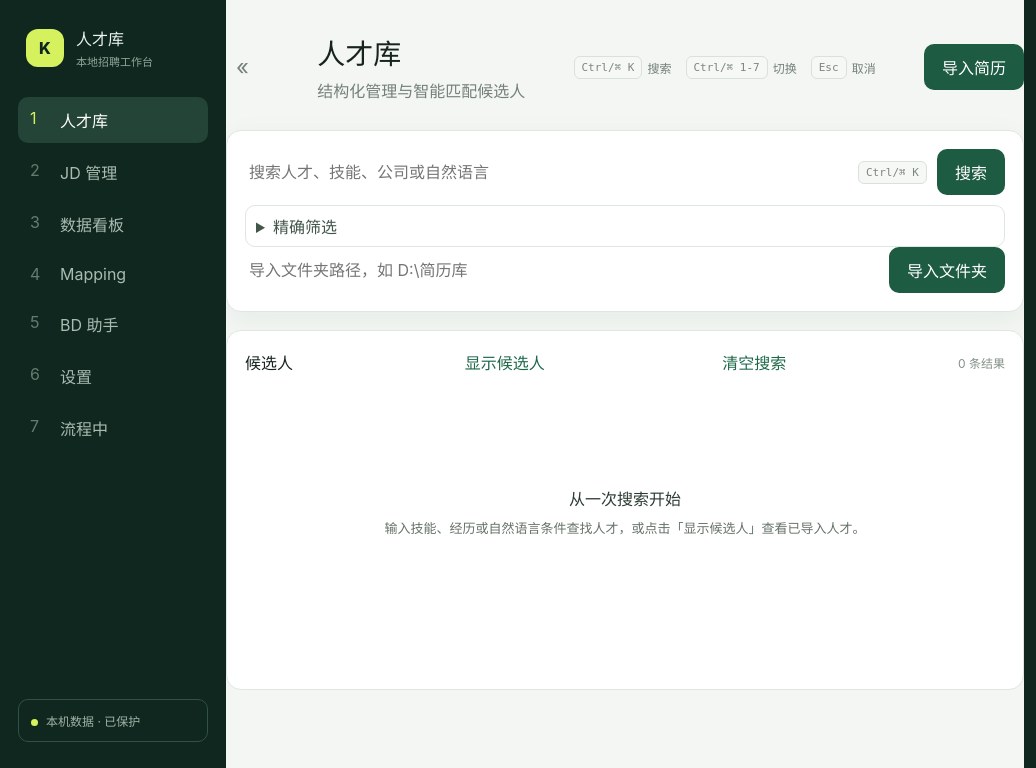
Test: desktop recruitment workflow › creates a company in the mapping tab
Click the button "4 Mapping".
click(113, 274)  # box [18,253,208,295]
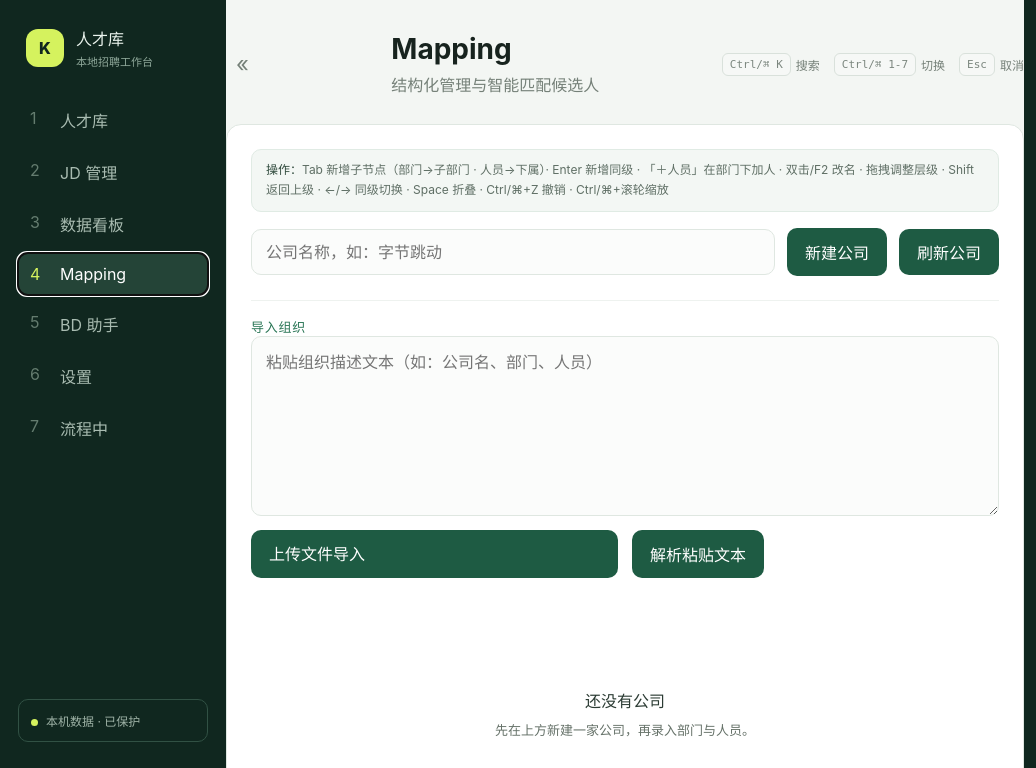
Type "字节跳动" into the field labelled "公司名称".
click(513, 252); type("字节跳动")  # box [251,229,775,275]
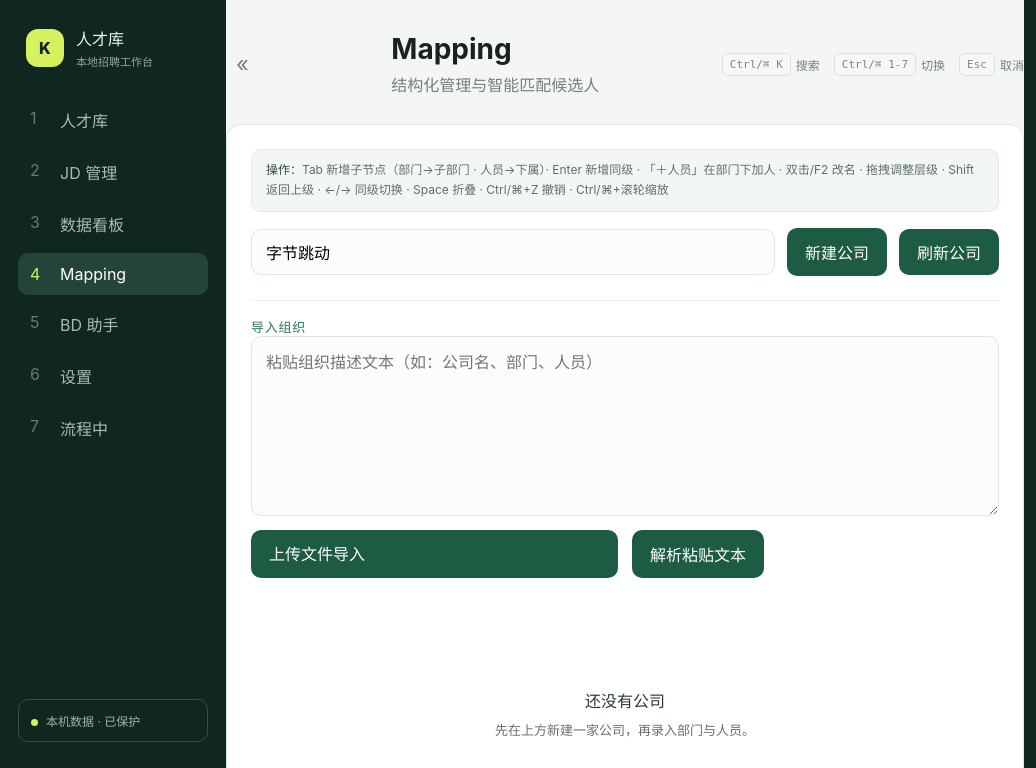
Click the button "新建公司".
click(837, 252)  # box [787,228,887,276]
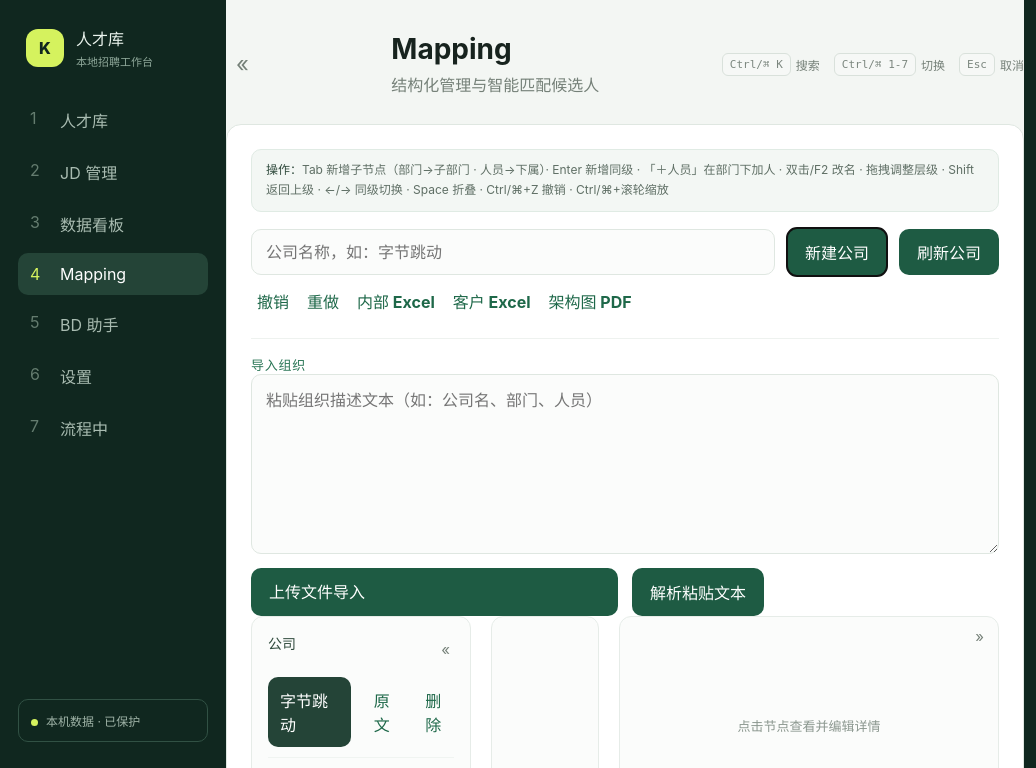
Result: the button "字节跳动" is shown at [268,677,351,747]
